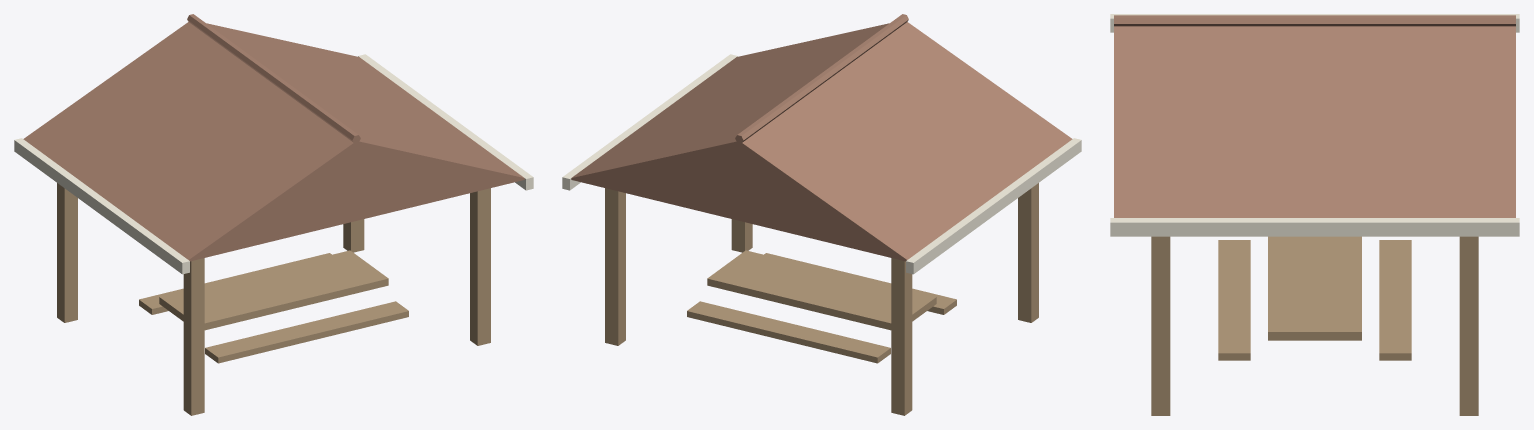
3 views of the same model, side by side, from view 1: azimuth 30°, elevation 25°; view 2: azimuth 150°, elevation 25°; view 3: azimuth 270°, elevation 25° (orthographic). The views are drawn at different scales.
Bounding box in the file's own units: 7.36 × 5.11 × 6.1.
